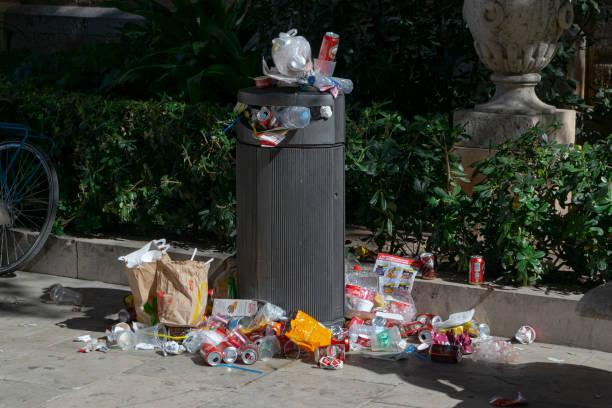trash: (343, 251, 492, 386), (103, 231, 244, 357), (201, 290, 351, 378), (219, 25, 378, 93), (215, 85, 310, 143), (485, 300, 548, 363), (460, 381, 535, 408), (41, 283, 90, 311), (411, 243, 446, 277), (464, 239, 485, 291), (76, 328, 106, 356)
trash_can_overflow: (191, 25, 370, 354)
